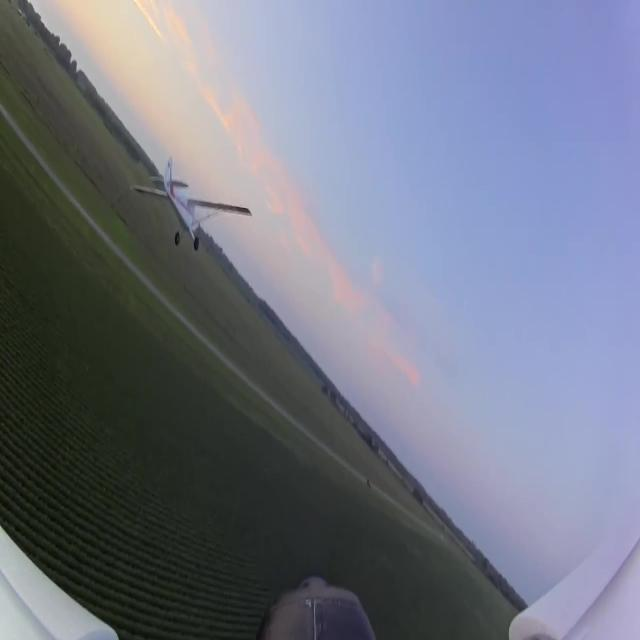iha: (160, 177, 222, 216)
